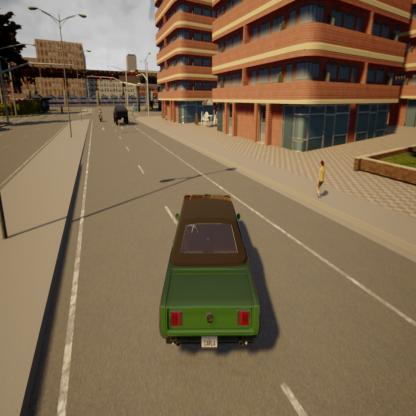Cars: (156, 187, 263, 360), (111, 103, 131, 129)
Pedestrian: (311, 158, 329, 198)
